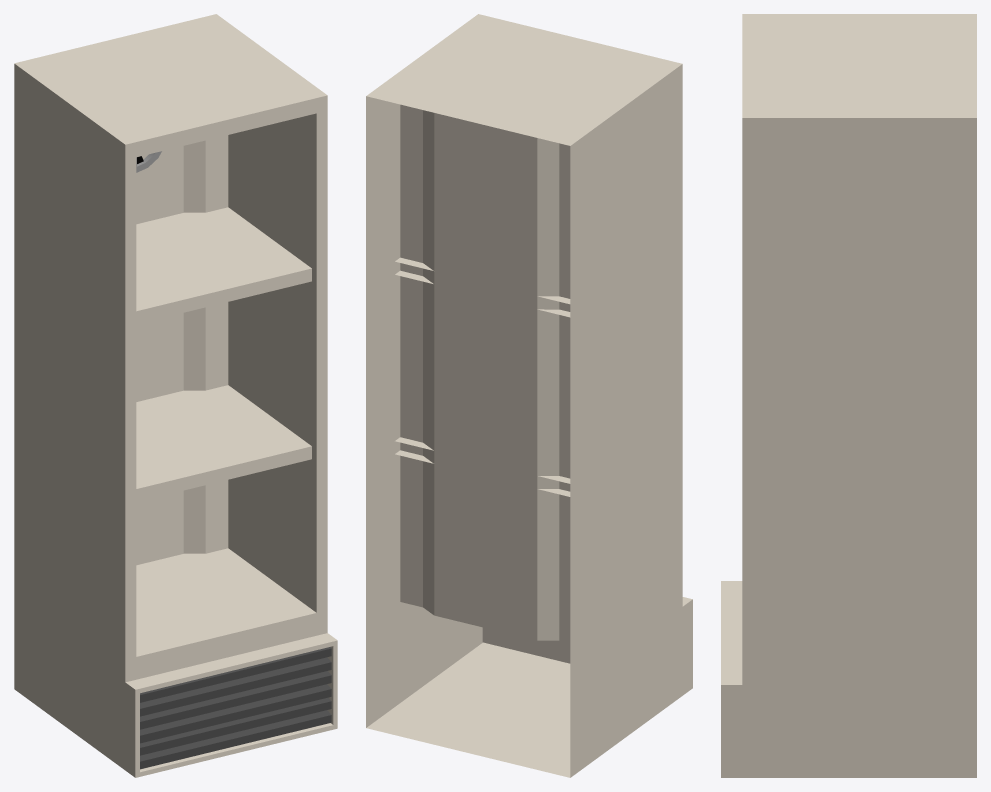
The model's file is fridge_Jan31.fbx.
3 renders of one model, left to right at view 1: azimuth 30°, elevation 25°; view 2: azimuth 150°, elevation 25°; view 3: azimuth 270°, elevation 25°, orthographic. The views are drawn at different scales.
Parts seen in each view (by area): view 1: fridge; view 2: fridge; view 3: fridge.
Boxes of the visible parts, x1,y1,x2,y2 form: fridge: (14, 14, 337, 777); fridge: (366, 14, 692, 777); fridge: (721, 14, 976, 777).
Bounding box in the file's own units: 0.587 × 1.74 × 0.6096.
